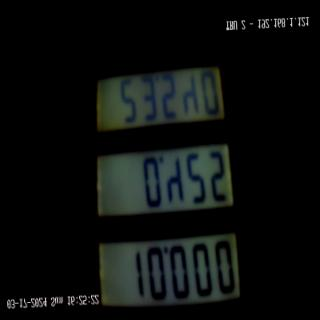screen: (83, 29, 248, 320)
